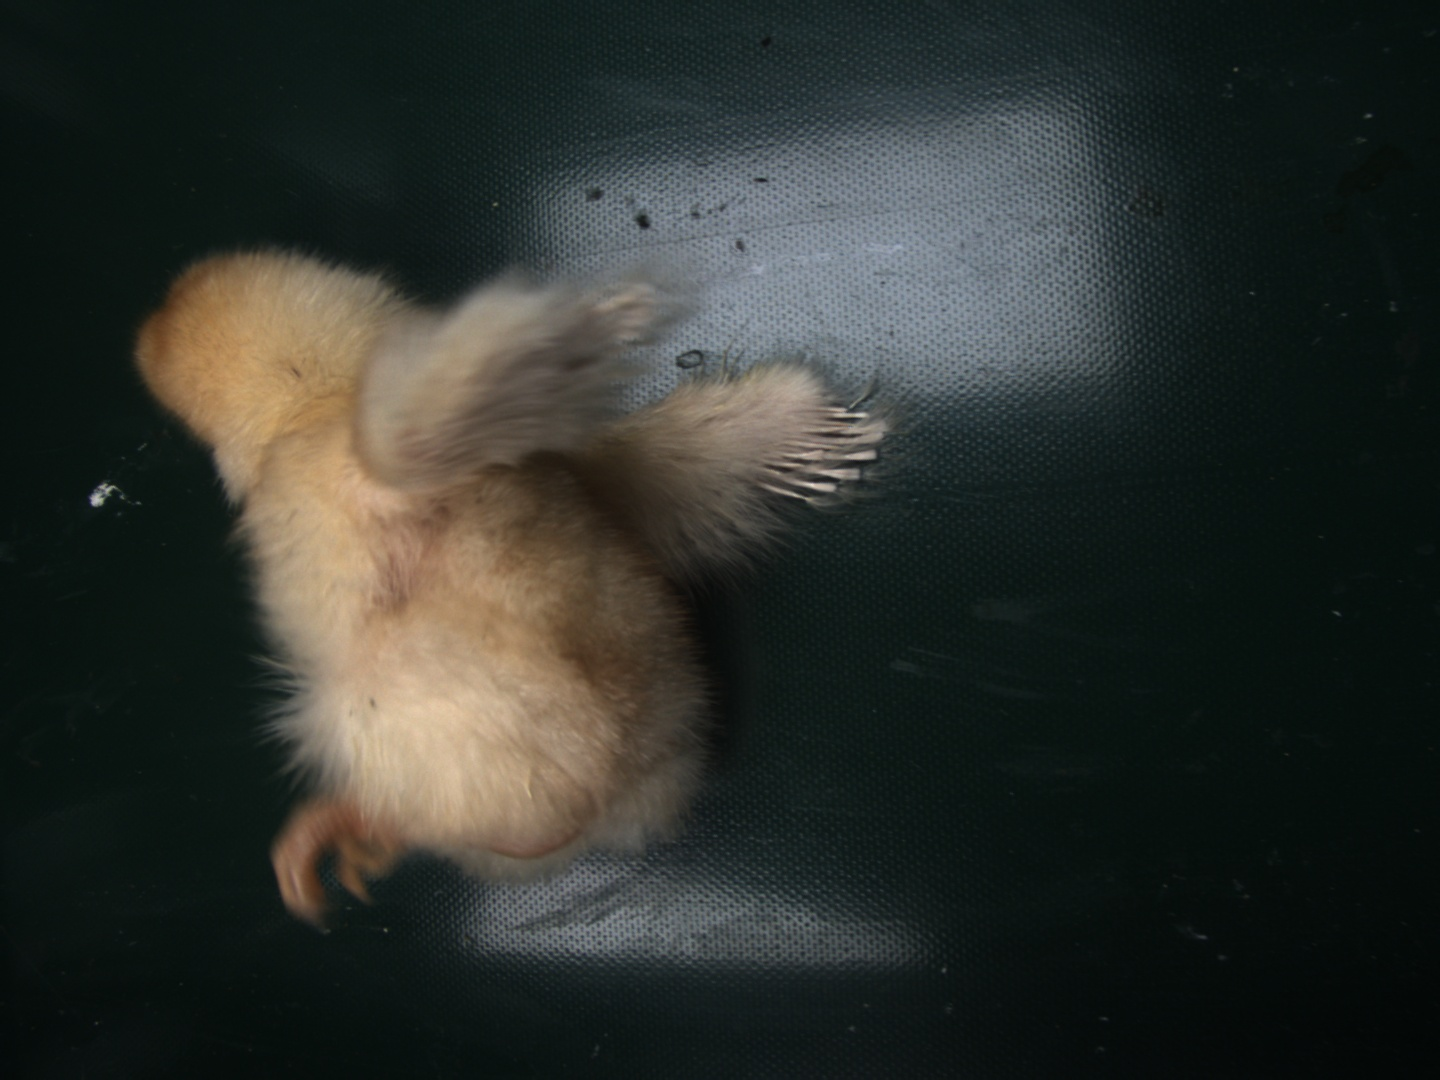female: (761, 403, 884, 500)
